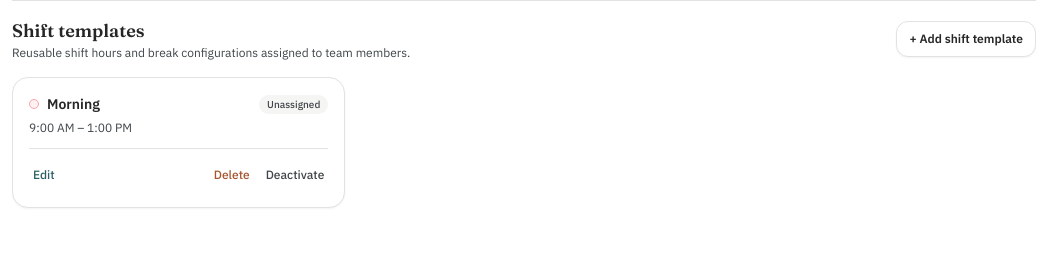
Test case: ShiftTemplatesSection › shows an error when deactivating fails
Click the button "Deactivate". click: (295, 175)
box: [262, 159, 328, 191]
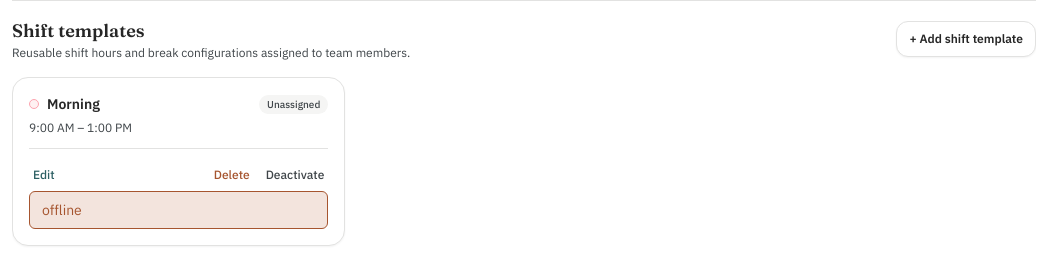
Now the text "offline" is shown, box [29, 191, 328, 229]
